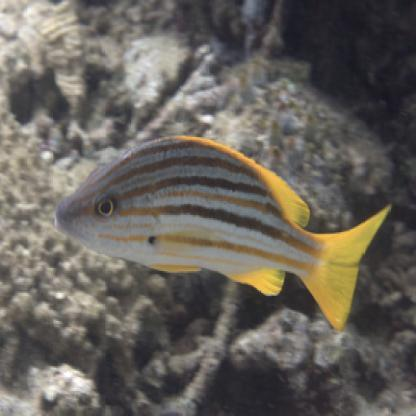Bio: (50, 129, 393, 332)
